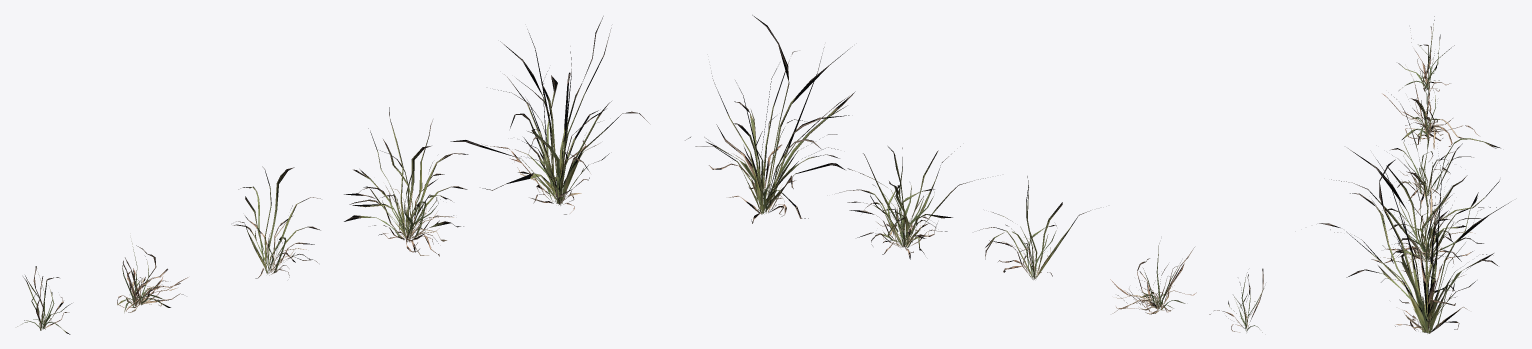
Rendered from dry-grass.glb.
3 views of the same model, side by side, from view 1: azimuth 30°, elevation 25°; view 2: azimuth 150°, elevation 25°; view 3: azimuth 270°, elevation 25° (orthographic). The views are drawn at different scales.
Visible parts, largest first — view 1: grass_medium_02_e, grass_medium_02_d, grass_medium_02_c, grass_medium_02_b, grass_medium_02_a; view 2: grass_medium_02_e, grass_medium_02_d, grass_medium_02_c, grass_medium_02_b, grass_medium_02_a; view 3: grass_medium_02_e, grass_medium_02_d, grass_medium_02_c, grass_medium_02_b, grass_medium_02_a.
Part boxes in pixels (<box>): grass_medium_02_e: <box>450,16,650,214</box>; grass_medium_02_d: <box>344,107,468,256</box>; grass_medium_02_c: <box>233,166,320,278</box>; grass_medium_02_b: <box>117,241,188,312</box>; grass_medium_02_a: <box>17,266,71,334</box>; grass_medium_02_e: <box>685,15,855,223</box>; grass_medium_02_d: <box>839,146,985,259</box>; grass_medium_02_c: <box>979,176,1090,279</box>; grass_medium_02_b: <box>1110,243,1196,314</box>; grass_medium_02_a: <box>1209,268,1264,332</box>; grass_medium_02_e: <box>1319,148,1511,333</box>; grass_medium_02_d: <box>1331,143,1499,272</box>; grass_medium_02_c: <box>1391,94,1500,213</box>; grass_medium_02_b: <box>1382,53,1478,149</box>; grass_medium_02_a: <box>1398,16,1454,91</box>.
Bounding box in the file's own units: 1.29 × 0.4053 × 0.4318.
1 material, 1 textured.
